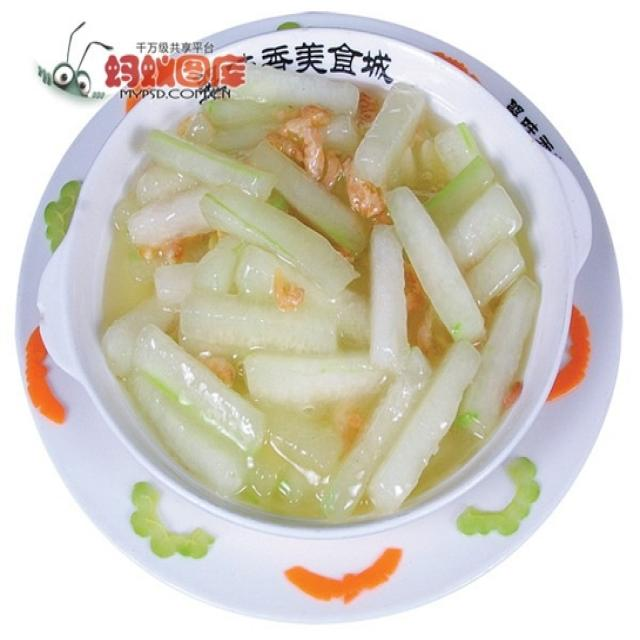汤锅炖物: (67, 58, 595, 546)
